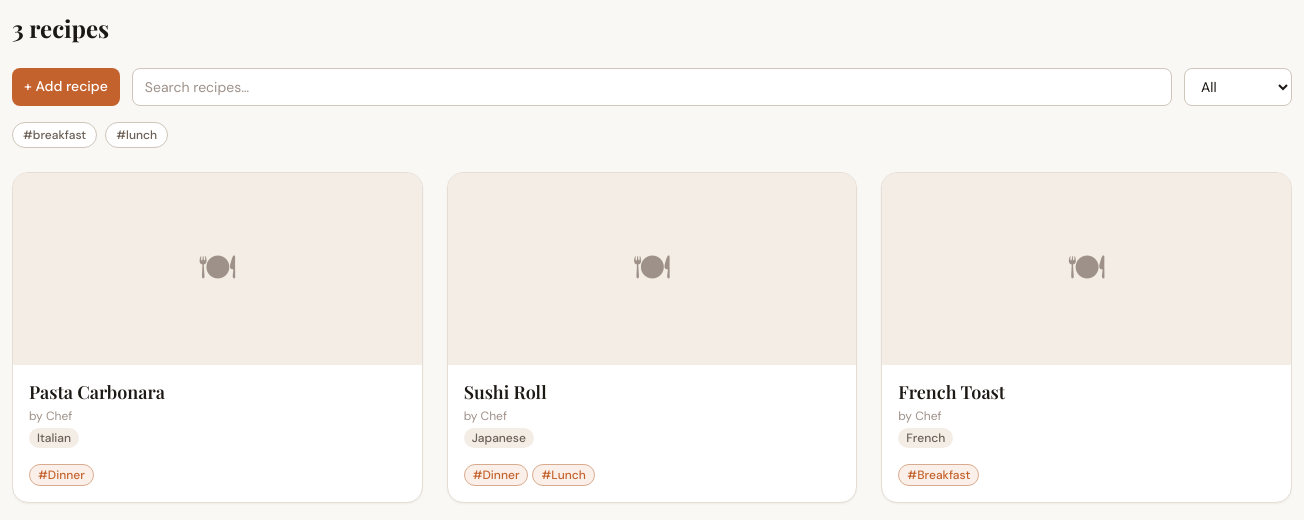
Test: RecipeGrid › filters recipes by search query
Type "Pasta" into the search field with placeholder "Search recipes…" at (652, 87), box [132,68,1172,106]
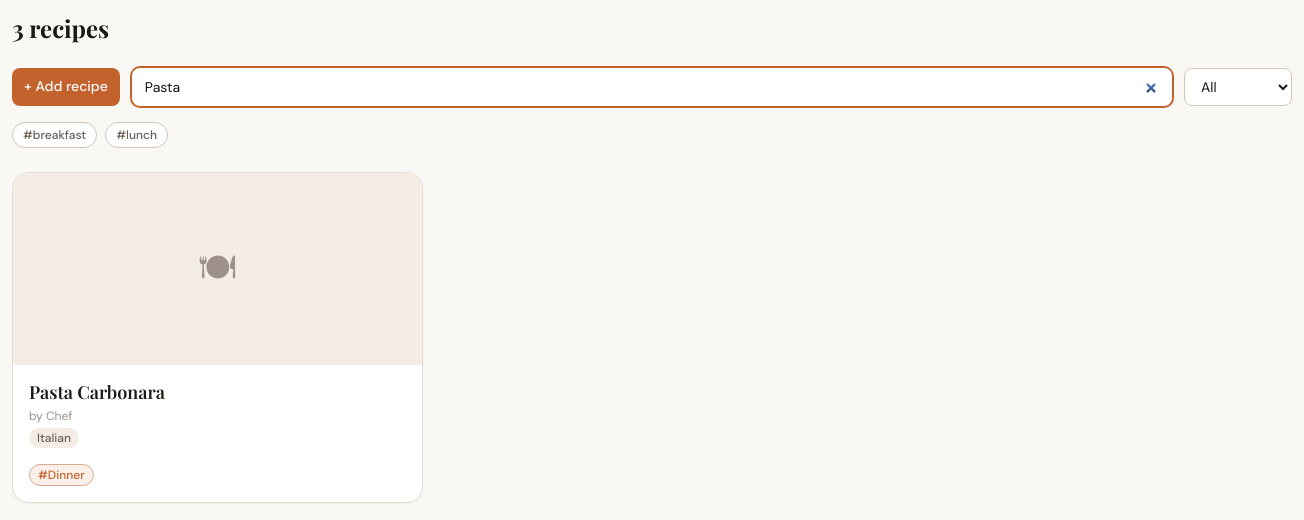
Expected: the heading "Pasta Carbonara" is shown, [29,380,165,404]
Expected: the link "Sushi Roll" is gone
